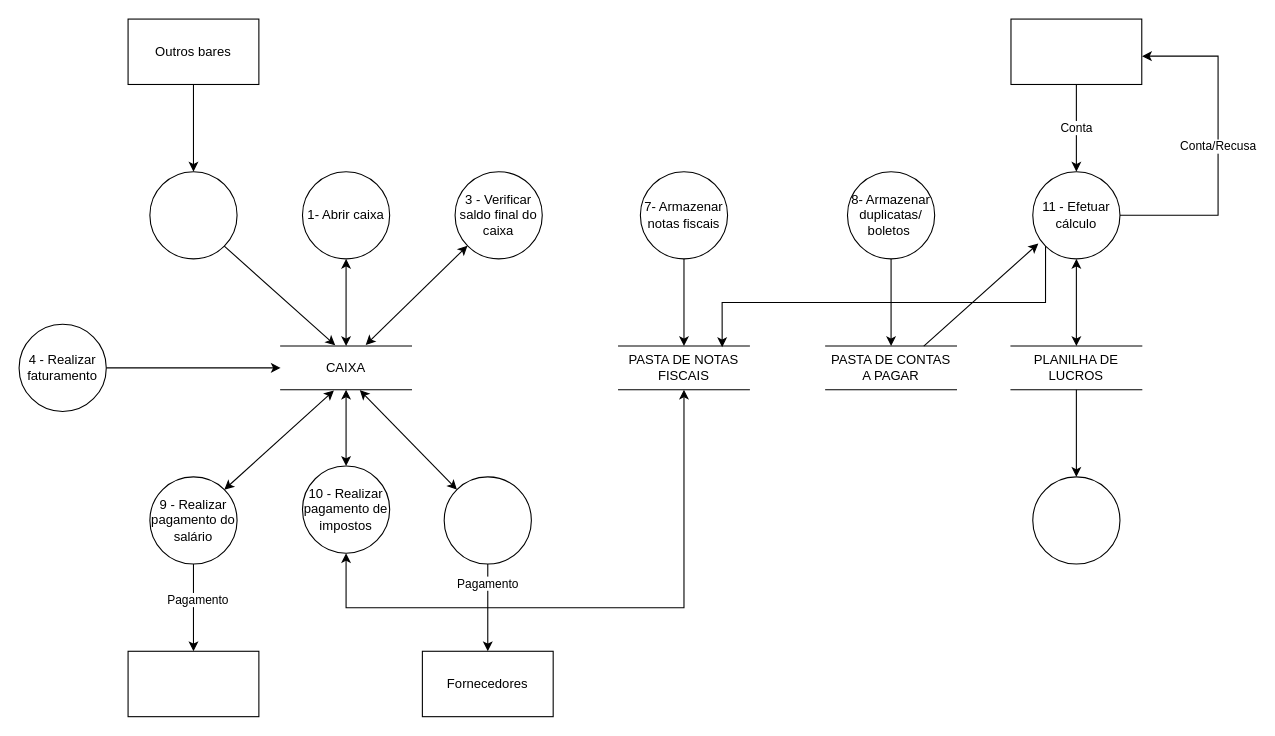
The diagram is 1275 pixels wide and 736 high, and some of its shapes have lost their labels. The shapes that lost their labels are listed below. From the top down, each one's centre as x and y in pixels, then its label:
the point at 1076,51: Contador
the point at 193,215: 5 - Receber pagamento de bares
the point at 487,520: 6-Realizar pagamento dos fornecedores
the point at 1076,520: 12- Criar implementar plano de ação
the point at 193,683: Funcionários
